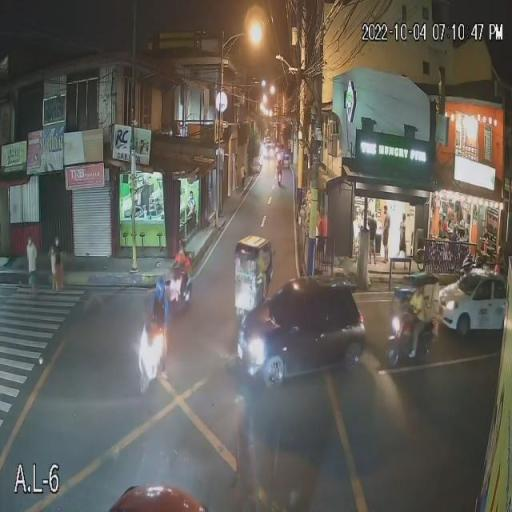helmet: (154, 280, 172, 300), (178, 238, 189, 252)
motorcycle: (132, 318, 176, 389), (166, 273, 196, 317)
rider: (147, 276, 172, 340), (176, 241, 192, 288)
